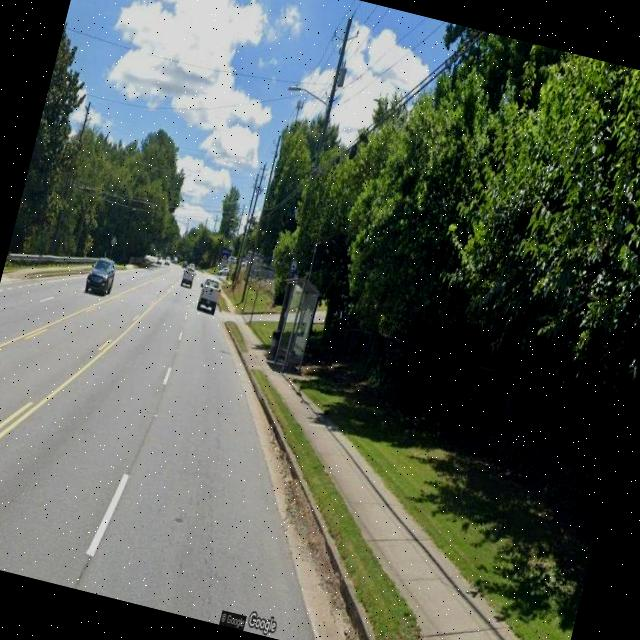seating: (286, 351, 302, 370)
shelter: (268, 276, 323, 378)
trash_can: (266, 328, 282, 361)
